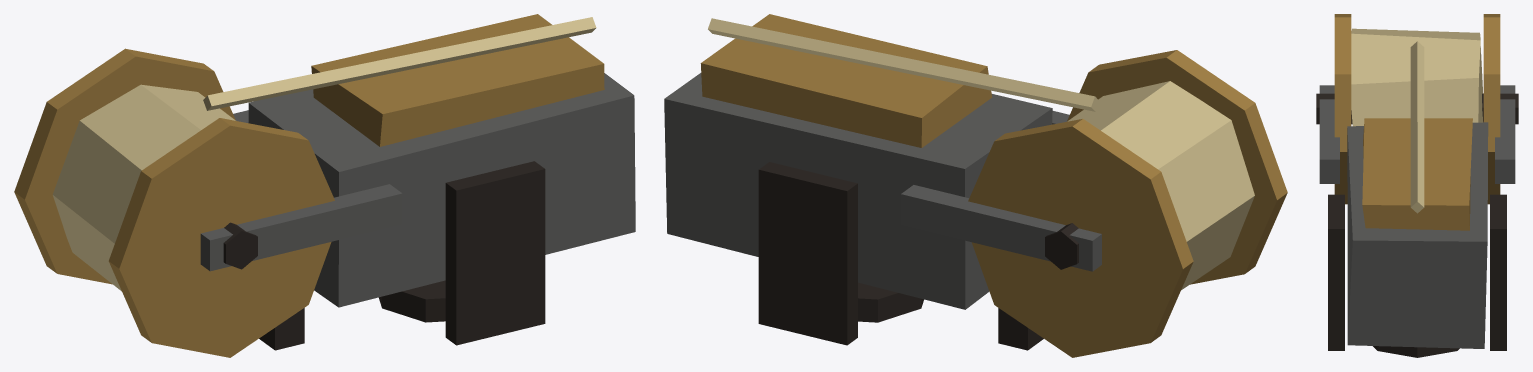
The model's file is wrec_harpoon.glb.
3 views of the same model, side by side, from view 1: azimuth 30°, elevation 25°; view 2: azimuth 150°, elevation 25°; view 3: azimuth 270°, elevation 25° (orthographic). The views are drawn at different scales.
Visible parts, largest first — view 1: wrec_harpoon; view 2: wrec_harpoon; view 3: wrec_harpoon.
Part boxes in pixels (x1,y1,x2,y2): wrec_harpoon: [14, 14, 635, 357]; wrec_harpoon: [664, 14, 1287, 357]; wrec_harpoon: [1316, 14, 1518, 357].
Size of the model in its own units: 0.7148 by 0.36 by 0.3.
